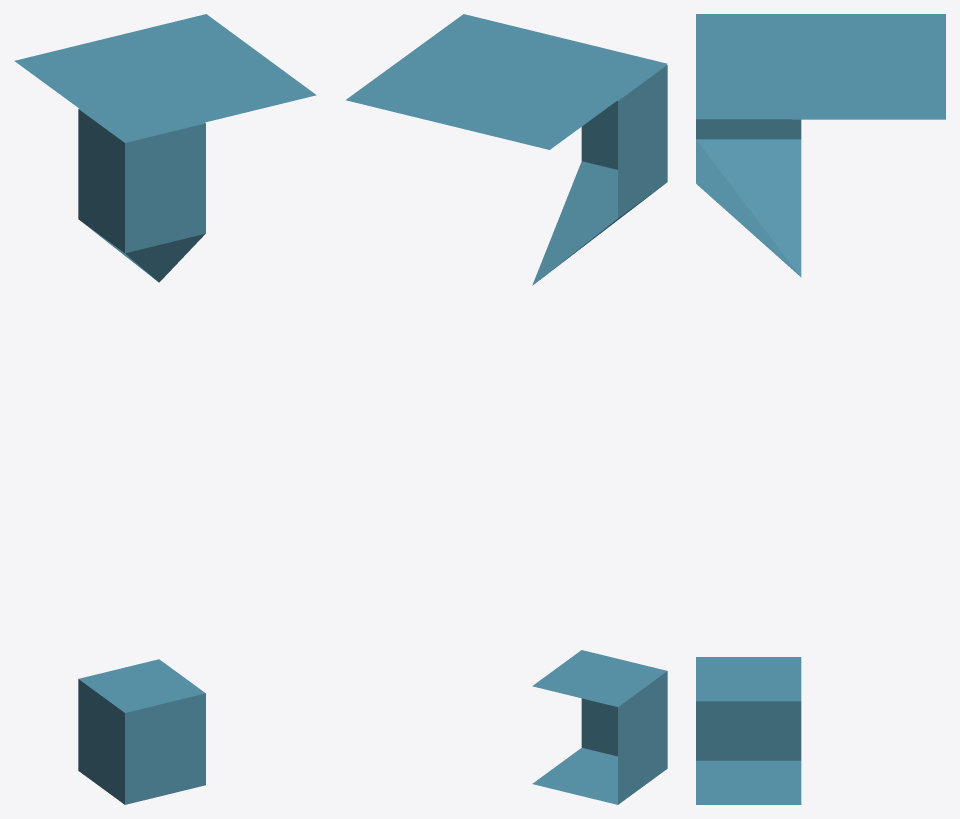
File: wall1c cap angle.FBX
3 views of the same model, side by side, from view 1: azimuth 30°, elevation 25°; view 2: azimuth 150°, elevation 25°; view 3: azimuth 270°, elevation 25° (orthographic). The views are drawn at different scales.
Parts seen in each view (by area): view 1: Object286; view 2: Object286; view 3: Object286.
Boxes of the visible parts, left/top/right/bottom form: Object286: left=14, top=14, right=316, bottom=804; Object286: left=345, top=14, right=667, bottom=804; Object286: left=696, top=14, right=945, bottom=804.
Bounding box in the file's own units: 0.547 × 1.8 × 0.5465.
